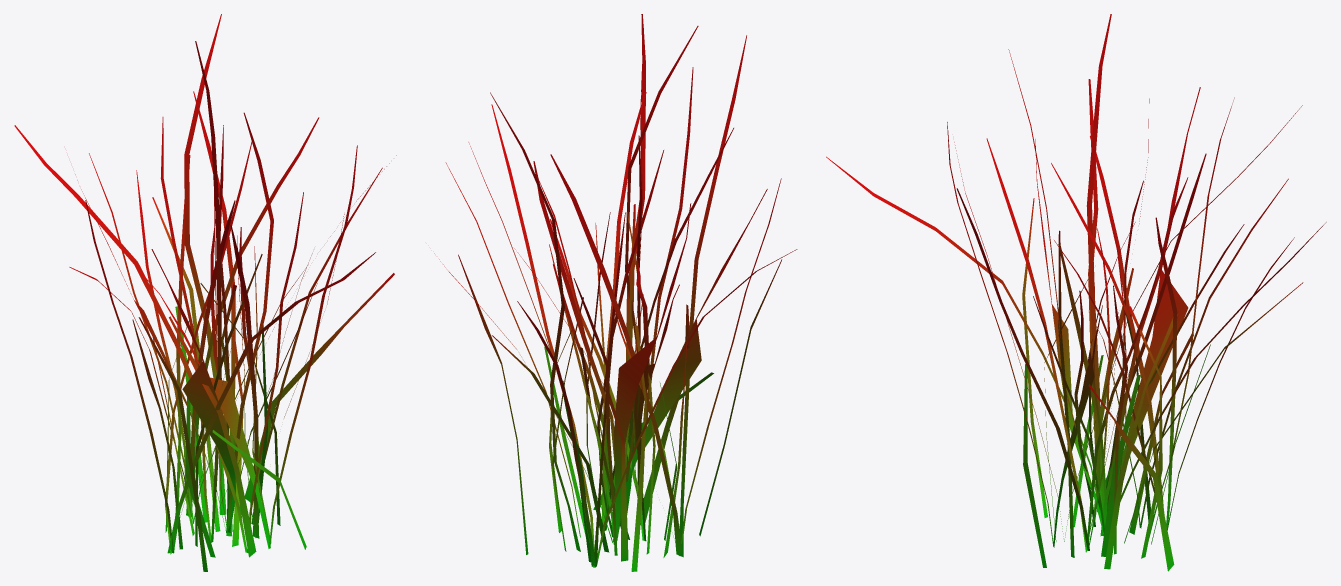
Rendered from ueyoebmia_Var3_LOD2.fbx.
3 views of the same model, side by side, from view 1: azimuth 30°, elevation 25°; view 2: azimuth 150°, elevation 25°; view 3: azimuth 270°, elevation 25° (orthographic). The views are drawn at different scales.
Parts seen in each view (by area): view 1: _ef1f_Var3_LOD2; view 2: _ef1f_Var3_LOD2; view 3: _ef1f_Var3_LOD2.
Part boxes in pixels (<box>): _ef1f_Var3_LOD2: <box>14,14,396,571</box>; _ef1f_Var3_LOD2: <box>434,14,797,571</box>; _ef1f_Var3_LOD2: <box>826,14,1326,571</box>.
Bounding box in the file's own units: 21.47 × 31.85 × 28.03.
